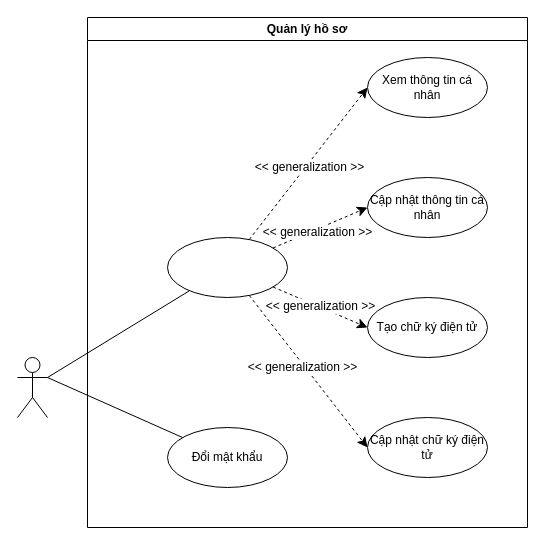
Image size: 545x545. Some labels were removed from this diagram. Each missing label, with the centre of its shape:
"Quản lý thông tin tài khoản" goes at point 227,267.
"User" goes at point 32,387.
